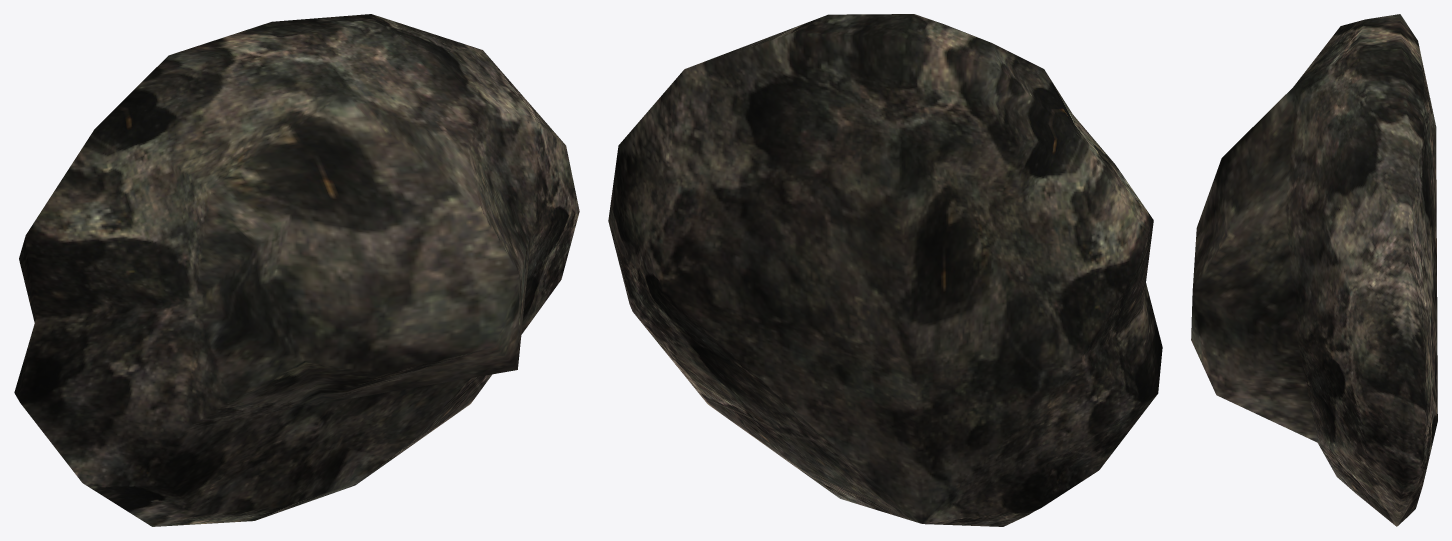
File: stone_03.obj
3 renders of one model, left to right at view 1: azimuth 30°, elevation 25°; view 2: azimuth 150°, elevation 25°; view 3: azimuth 270°, elevation 25°, orthographic. The views are drawn at different scales.
Visible parts, largest first — view 1: (null); view 2: (null); view 3: (null).
Boxes of the visible parts, left/top/right/bottom form: (null): left=14, top=14, right=579, bottom=526; (null): left=608, top=14, right=1162, bottom=526; (null): left=1191, top=14, right=1437, bottom=526.
Size of the model in its own units: 3.89 by 3.31 by 1.65.
